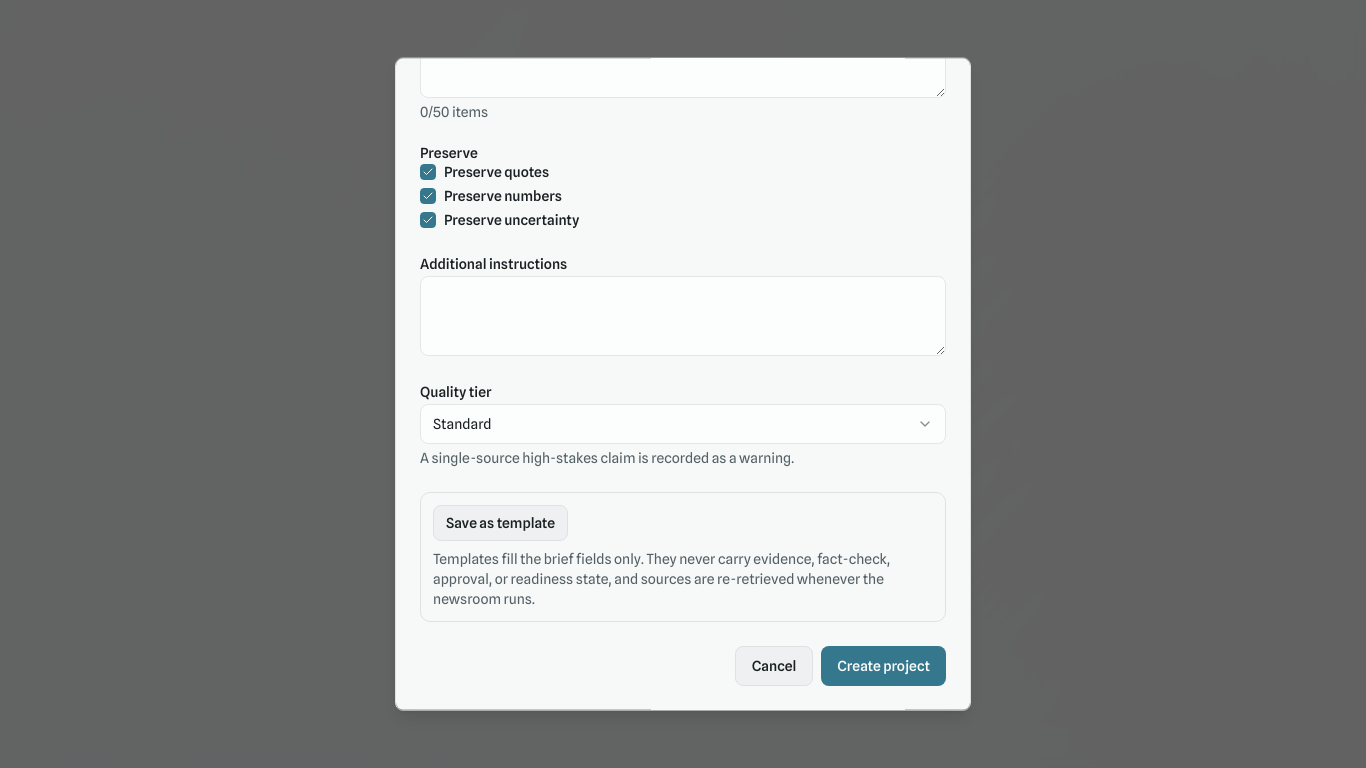
Test case: DraftCreateDialog › shows inline errors and focuses the first invalid field on submit
(page scrolled)
Click the button "Create project" at (884, 666), box [821, 646, 946, 686]
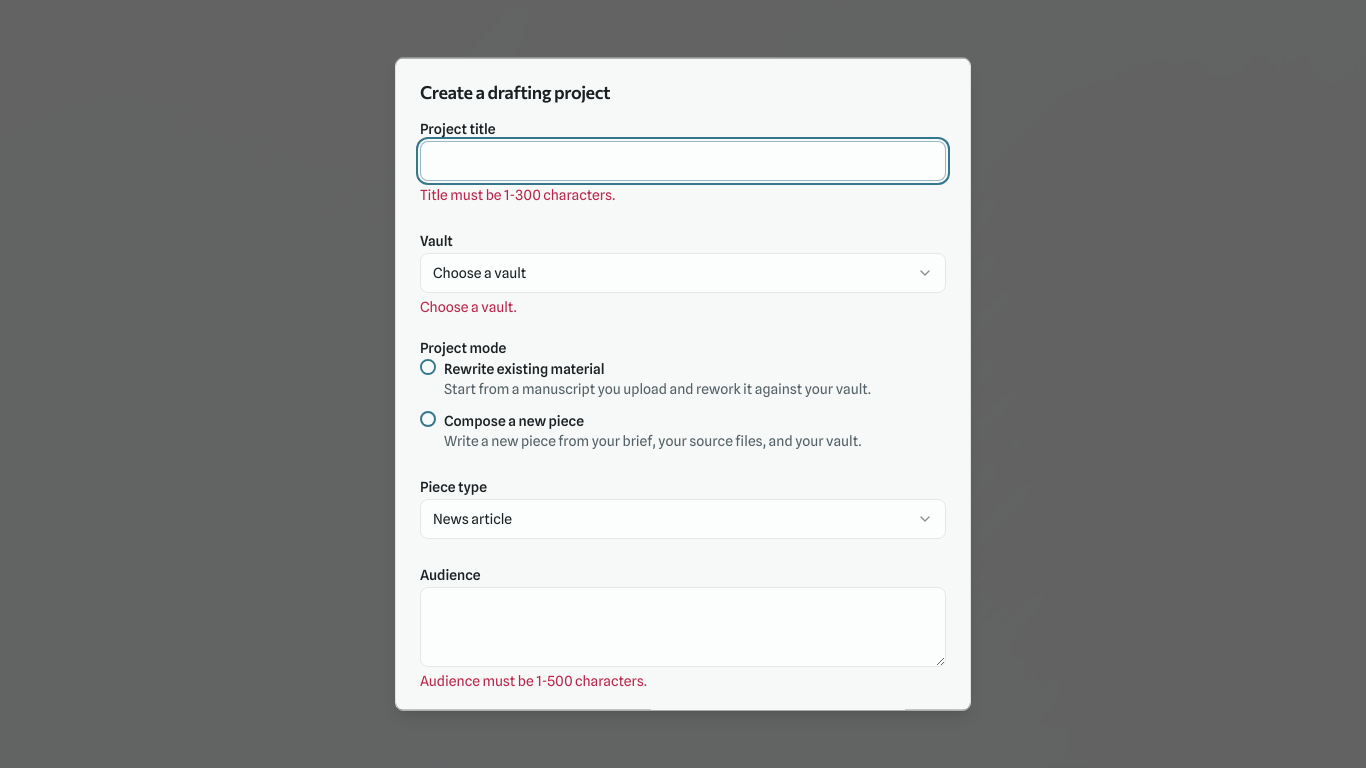
Expected: the text "Title must be 1-300 characters." is shown, [420, 187, 615, 203]
Expected: the text "Choose a vault." is shown, [420, 299, 516, 315]
